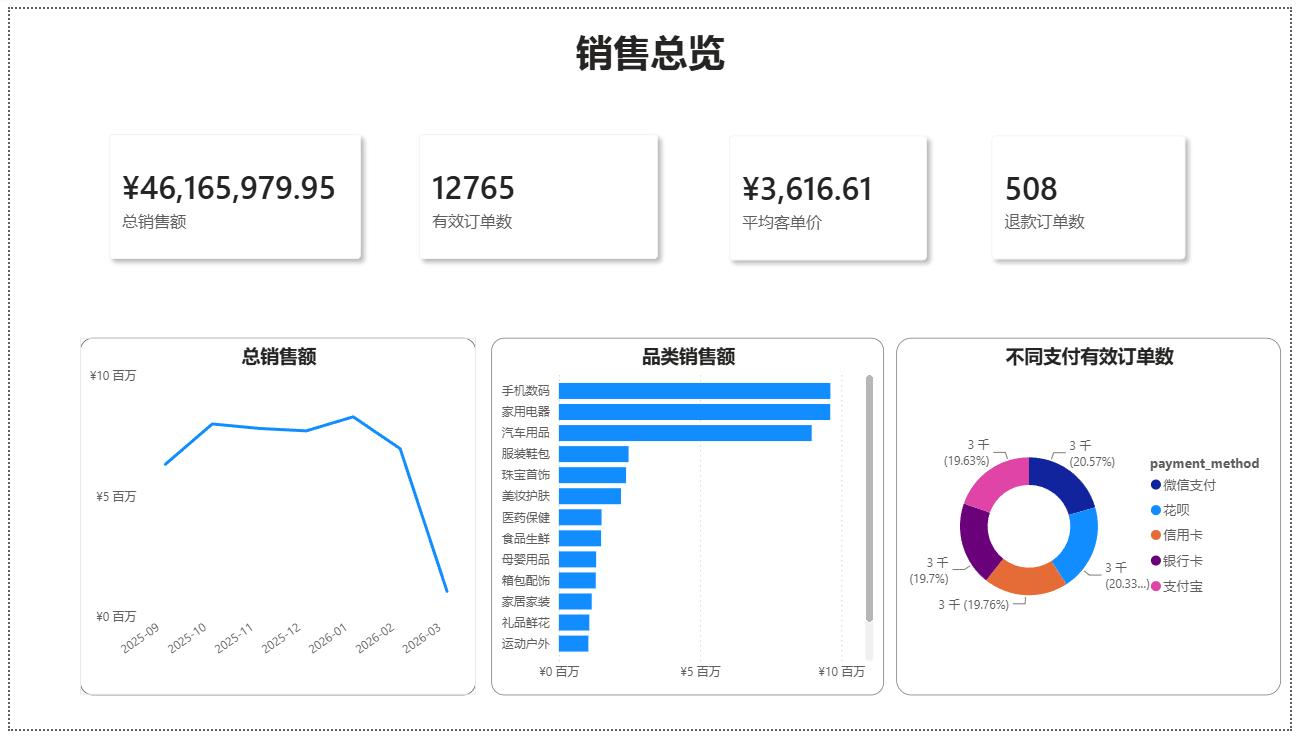

The dashboard page shown, as its layout file describes it:
{"tool":"powerbi","page":{"name":"销售总览","canvas":[1280,720],"ordinal":0},"visuals":[{"type":"cardVisual","fields":{"Data":["fact_orders.总销售额"]},"box":[70,96.2,310,183.8],"z":0},{"type":"cardVisual","fields":{"Data":["fact_orders.有效订单数"]},"box":[380,96.2,297.5,183.8],"z":1000},{"type":"cardVisual","fields":{"Data":["fact_orders.平均客单价"]},"box":[690,97.5,256.2,183.8],"z":2000},{"type":"cardVisual","fields":{"Data":["fact_orders.退款订单数"]},"box":[952.5,97.5,252.5,182.5],"z":3000},{"type":"lineChart","title":"总销售额","fields":{"Category":["日期表.年月"],"Y":["fact_orders.总销售额"]},"box":[70,328.8,396.2,357.5],"z":4000},{"type":"barChart","title":"品类销售额","fields":{"Category":["dim_products.category"],"Y":["fact_orders.总销售额"]},"box":[481.2,328.8,392.5,357.5],"z":5000},{"type":"donutChart","title":"不同支付有效订单数","fields":{"Category":["fact_orders.payment_method"],"Y":["fact_orders.有效订单数"]},"box":[886.2,328.8,385,357.5],"z":6000},{"type":"textbox","box":[536.2,12.5,208.8,67.5],"z":7000}]}

Visuals, with their boxes in screenshot pixels (x1, y1, x2, y2), scaled from the page's 1280x720 canvas onto the 1297x737 screenshot:
cardVisual - fact_orders.总销售额: <bbox>71, 98, 385, 287</bbox>
cardVisual - fact_orders.有效订单数: <bbox>385, 98, 686, 287</bbox>
cardVisual - fact_orders.平均客单价: <bbox>699, 100, 959, 288</bbox>
cardVisual - fact_orders.退款订单数: <bbox>965, 100, 1221, 287</bbox>
"总销售额" lineChart: <bbox>71, 337, 472, 703</bbox>
"品类销售额" barChart: <bbox>488, 337, 885, 703</bbox>
"不同支付有效订单数" donutChart: <bbox>898, 337, 1288, 703</bbox>
textbox: <bbox>543, 13, 755, 82</bbox>
